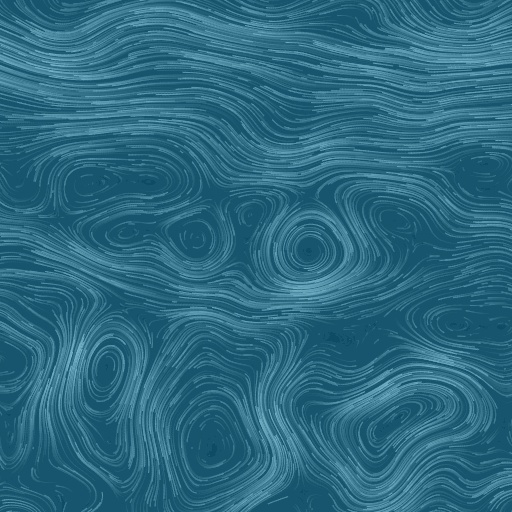eddy: (330, 379, 462, 483), (171, 382, 262, 494), (100, 208, 231, 268), (54, 155, 182, 214), (270, 205, 349, 287), (76, 331, 134, 420), (374, 200, 422, 243)
